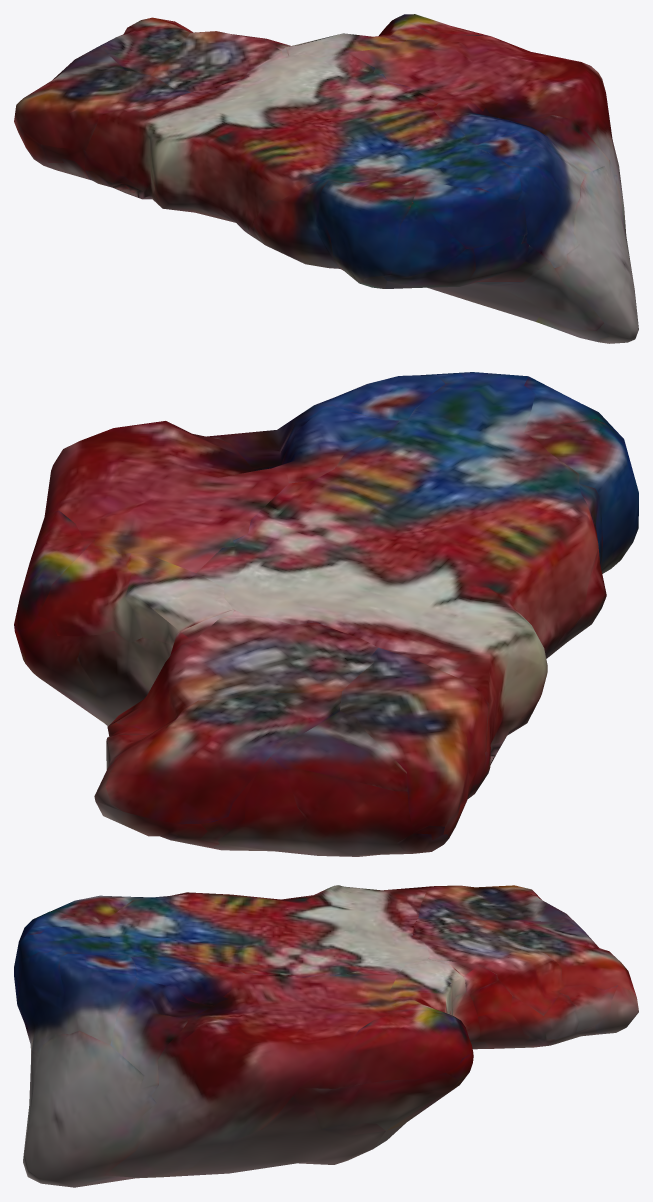
File: hall.glb
3 renders of one model, top to bottom at view 1: azimuth 30°, elevation 25°; view 2: azimuth 150°, elevation 25°; view 3: azimuth 270°, elevation 25°, orthographic. The views are drawn at different scales.
Size of the model in its own units: 0.4008 by 0.1703 by 0.5138.
1 material, 1 textured.
